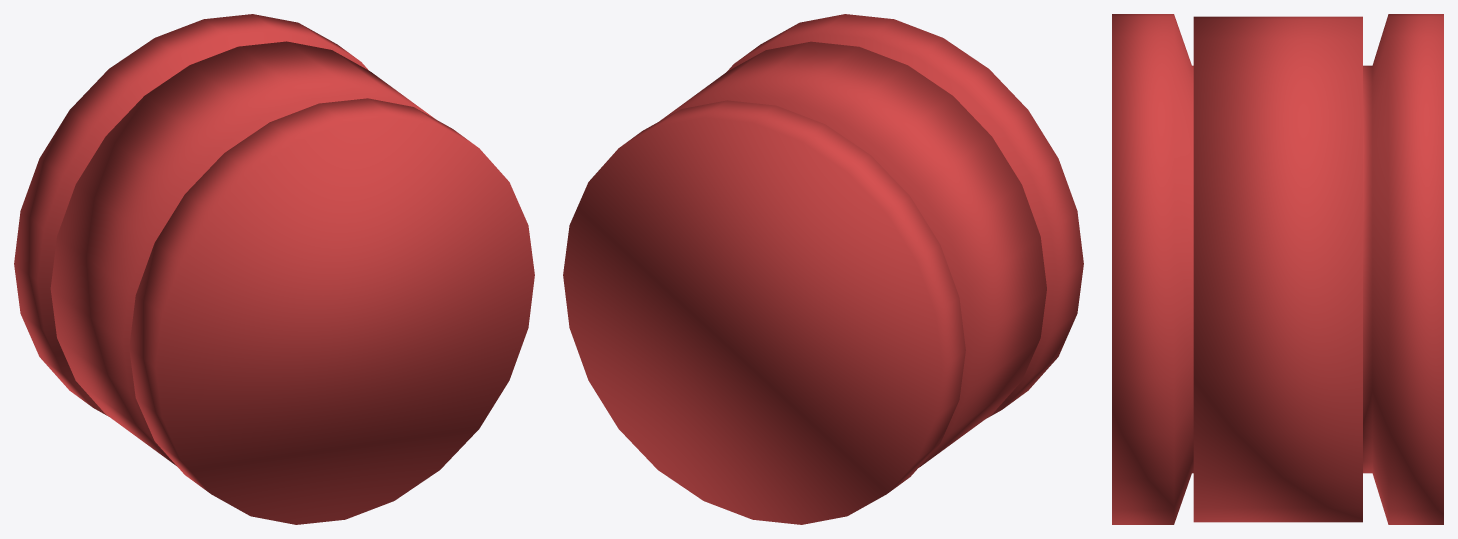
File: chair_wheel.fbx
3 views of the same model, side by side, from view 1: azimuth 30°, elevation 25°; view 2: azimuth 150°, elevation 25°; view 3: azimuth 270°, elevation 25° (orthographic). The views are drawn at different scales.
Parts seen in each view (by area): view 1: wheel; view 2: wheel; view 3: wheel.
Part boxes in pixels (x1,y1,x2,y2): wheel: (14, 14, 534, 524); wheel: (563, 14, 1083, 524); wheel: (1112, 14, 1443, 524).
Size of the model in its own units: 6.06 by 6.06 by 3.92.
